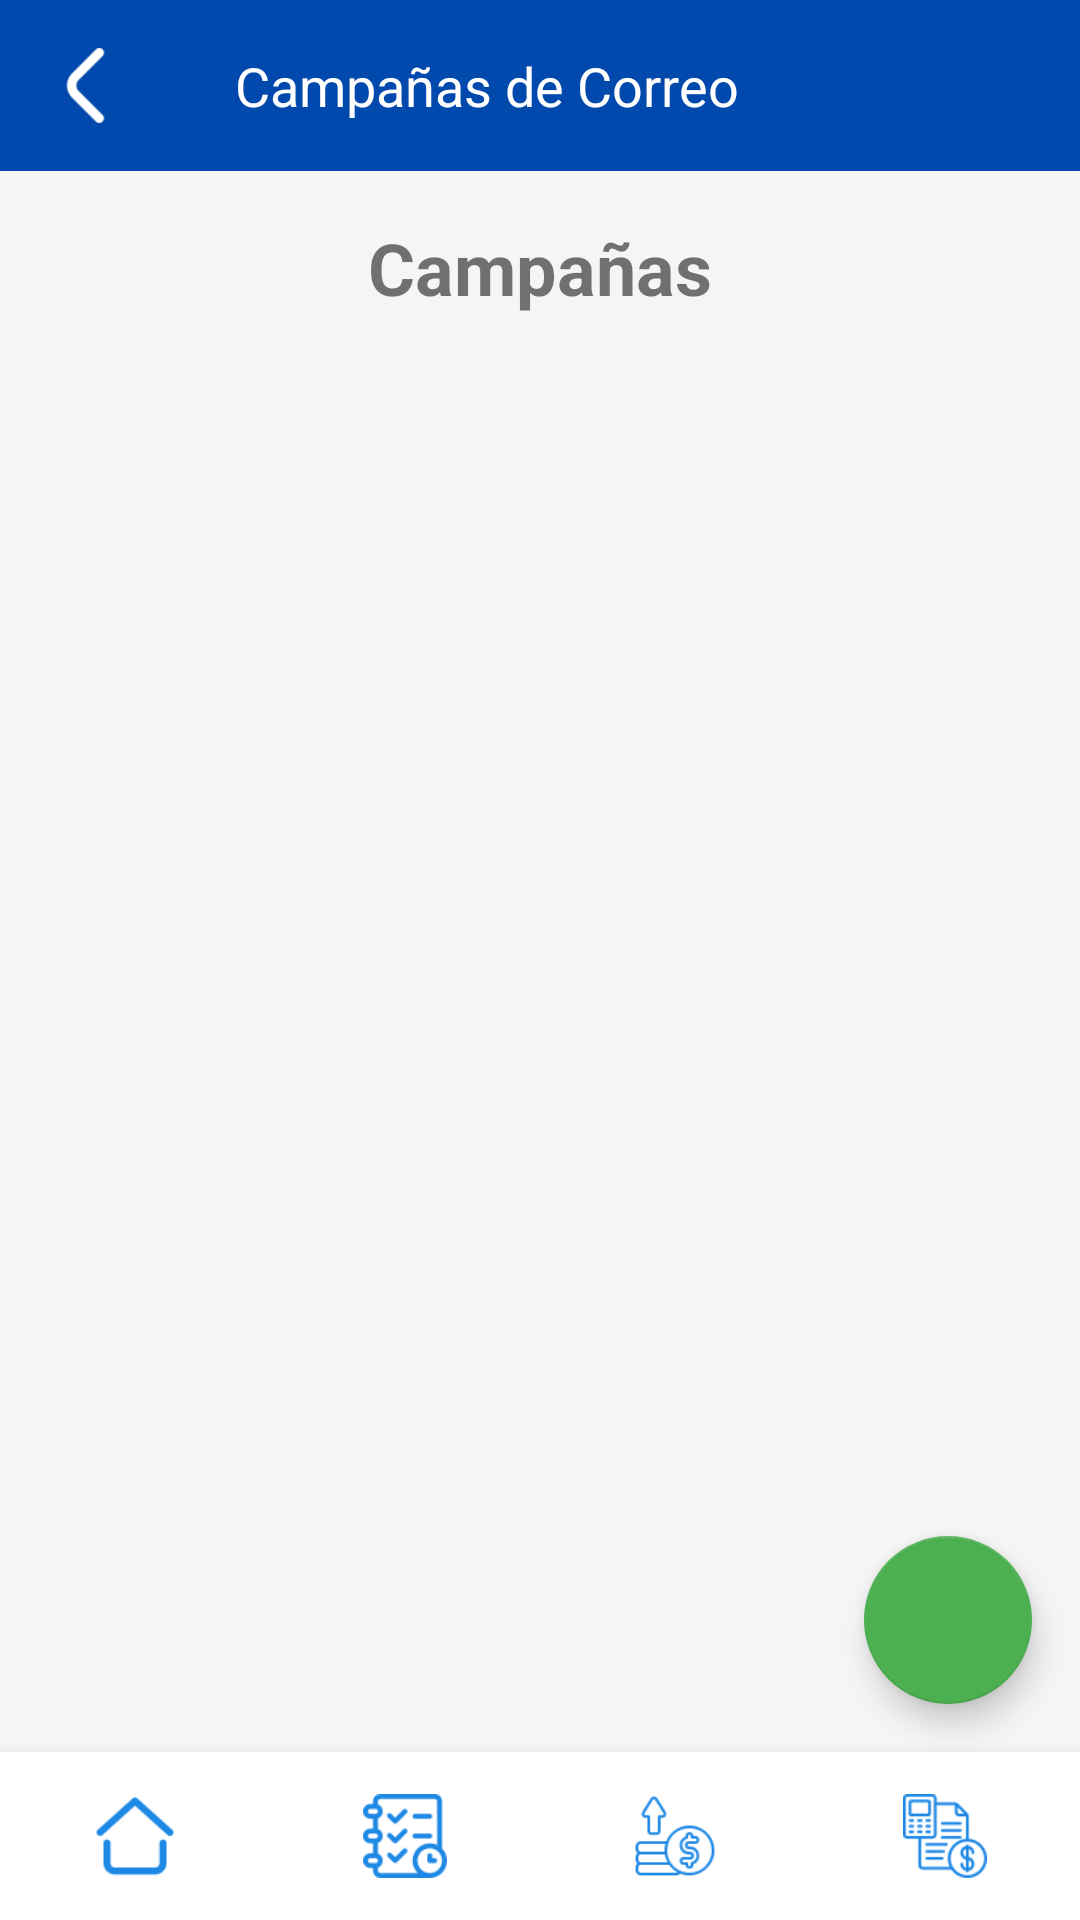

Where icons sit on this 1080px×1920px app screen, as Rect(x1, y1, x2, y2):
back: Rect(66, 48, 105, 123)
